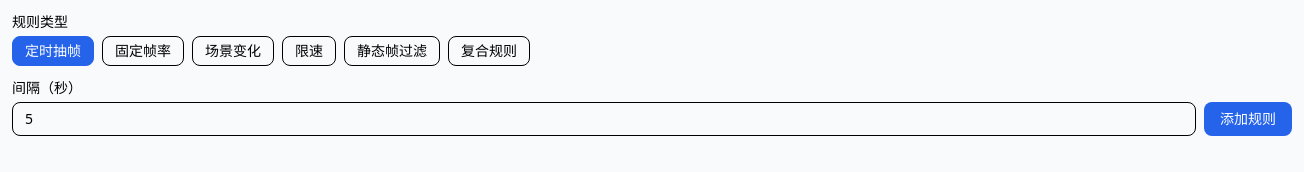
Test: RuleEditor › switches to rate limit param
The image size is (1304, 172).
Click the button "限速".
click(309, 51)  # box [282,36,336,66]
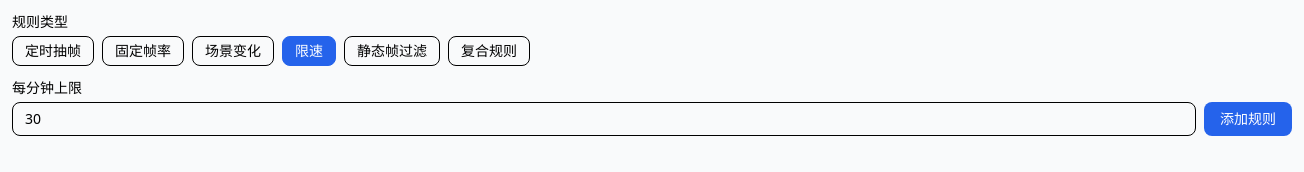
expect the text "每分钟上限" is shown: met, box [12,78,82,97]
expect the number field showing "30" is shown: met, box [12,102,1196,136]
